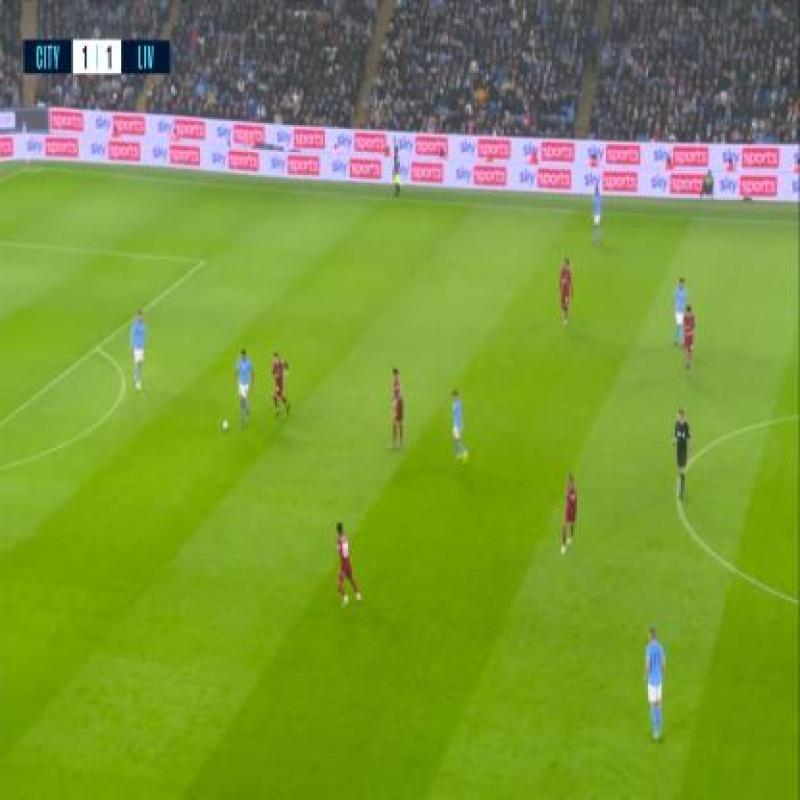1: (22, 158, 40, 176)
10: (90, 338, 106, 360)
9: (198, 252, 211, 271)
c: (660, 458, 702, 511)
